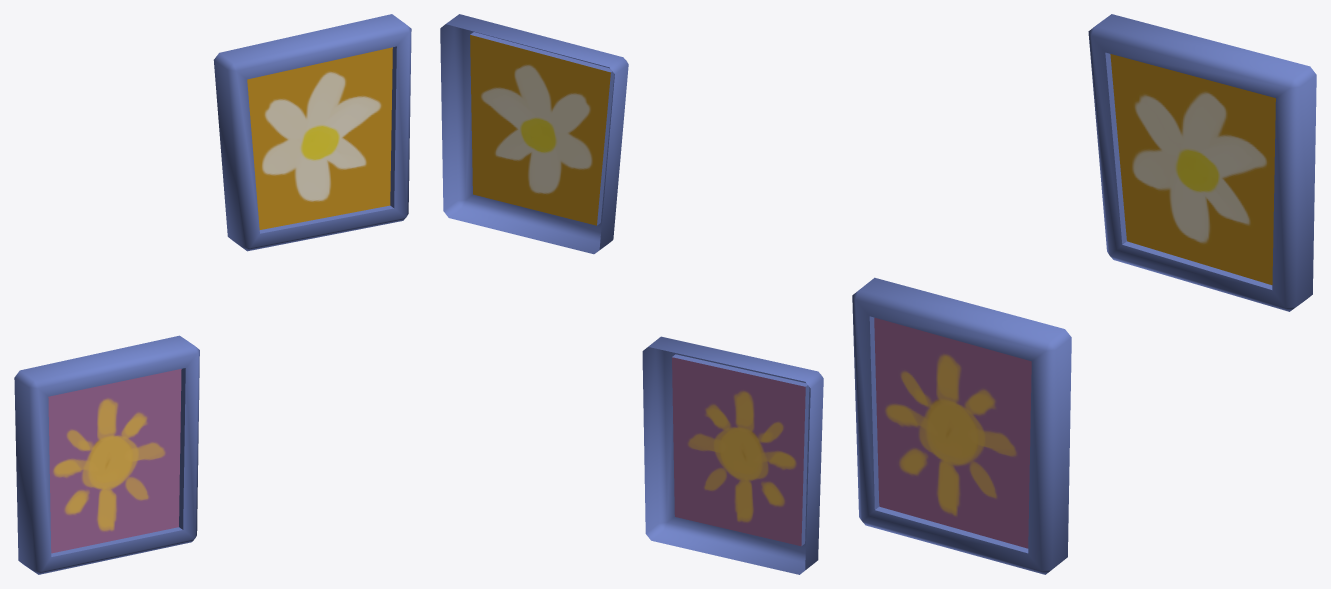
Rendered from paintingSmall.FBX.
3 views of the same model, side by side, from view 1: azimuth 30°, elevation 25°; view 2: azimuth 150°, elevation 25°; view 3: azimuth 330°, elevation 25° (orthographic). The views are drawn at different scales.
Visible parts, largest first — view 1: paintingSmall; view 2: paintingSmall; view 3: paintingSmall.
Boxes of the visible parts, x1,y1,x2,y2 form: paintingSmall: (14, 14, 411, 574); paintingSmall: (440, 14, 823, 574); paintingSmall: (852, 14, 1316, 574).
Bounding box in the file's own units: 2.72 × 3.21 × 0.2746.
